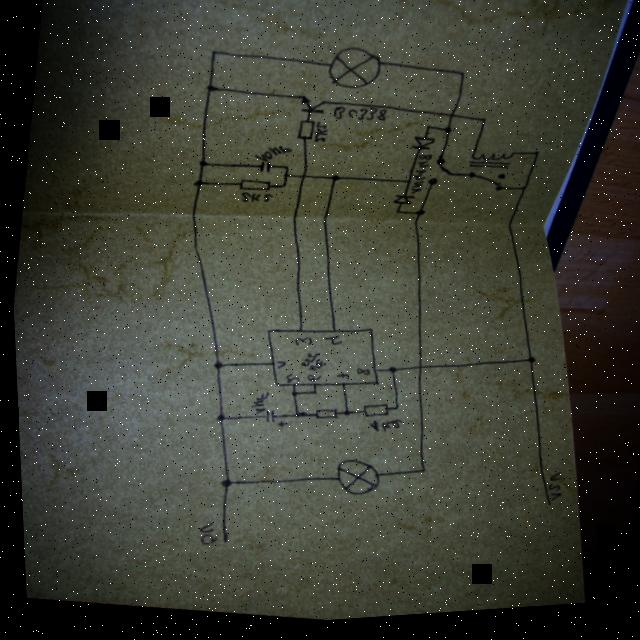capacitor: (258, 413, 285, 433), (256, 164, 271, 179)
crossover: (412, 370, 421, 377), (447, 118, 454, 126), (298, 177, 305, 184)
diode: (408, 141, 435, 159), (390, 199, 414, 213)
junction: (214, 481, 228, 492), (203, 87, 217, 97), (290, 415, 304, 424), (411, 215, 425, 223), (190, 182, 203, 190), (211, 416, 222, 425), (208, 365, 220, 373), (196, 162, 207, 170), (383, 372, 394, 380), (327, 180, 339, 187), (208, 52, 218, 60), (522, 363, 532, 371), (338, 414, 347, 422), (442, 133, 451, 141), (529, 158, 539, 165), (415, 472, 423, 480), (423, 130, 431, 138), (286, 395, 295, 402), (280, 177, 288, 184), (307, 394, 315, 401), (403, 184, 410, 192), (518, 192, 526, 199), (391, 215, 400, 221), (458, 77, 465, 84), (479, 124, 486, 131), (281, 169, 289, 175), (389, 411, 397, 417), (278, 187, 285, 193)
resistor: (235, 181, 270, 198), (357, 406, 386, 426), (293, 123, 315, 146), (310, 411, 335, 428)
switch: (424, 161, 455, 196)
terminal: (539, 508, 547, 516), (215, 541, 224, 548)
text: (329, 108, 386, 132), (407, 159, 432, 204), (252, 145, 291, 170), (363, 420, 400, 441), (296, 355, 325, 378), (236, 193, 272, 211), (541, 479, 560, 511), (192, 524, 215, 550), (244, 393, 266, 420), (311, 125, 329, 149), (320, 339, 339, 352), (290, 339, 309, 352), (281, 377, 297, 390), (302, 377, 319, 388), (330, 376, 347, 387), (351, 372, 368, 382), (270, 364, 283, 375)
transistor: (297, 99, 327, 121)
